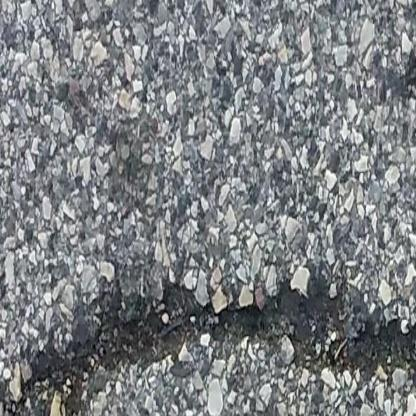Cracks: (0, 257, 416, 393)
